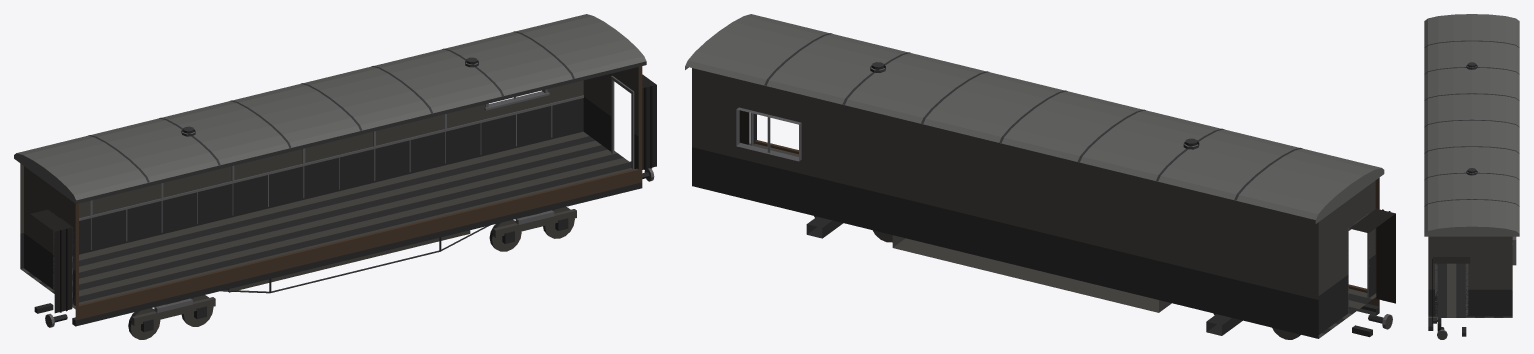
The model's file is shell_engine.glb.
3 renders of one model, left to right at view 1: azimuth 30°, elevation 25°; view 2: azimuth 150°, elevation 25°; view 3: azimuth 270°, elevation 25°, orthographic. The views are drawn at different scales.
Parts seen in each view (by area): view 1: low, top; view 2: low, top; view 3: top, low.
Part boxes in pixels (box(x1,y1,x2,y2)): low: box(20, 73, 656, 339); top: box(14, 14, 646, 227); low: box(692, 96, 1395, 339); top: box(685, 14, 1384, 248); top: box(1424, 14, 1519, 254); low: box(1428, 236, 1516, 339).
Bounding box in the file's own units: 17 × 4.81 × 3.04.
Materials: 1 (1 with a texture image).
